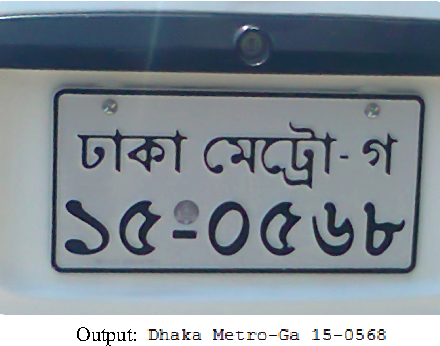registration_plate: (51, 89, 425, 278)
